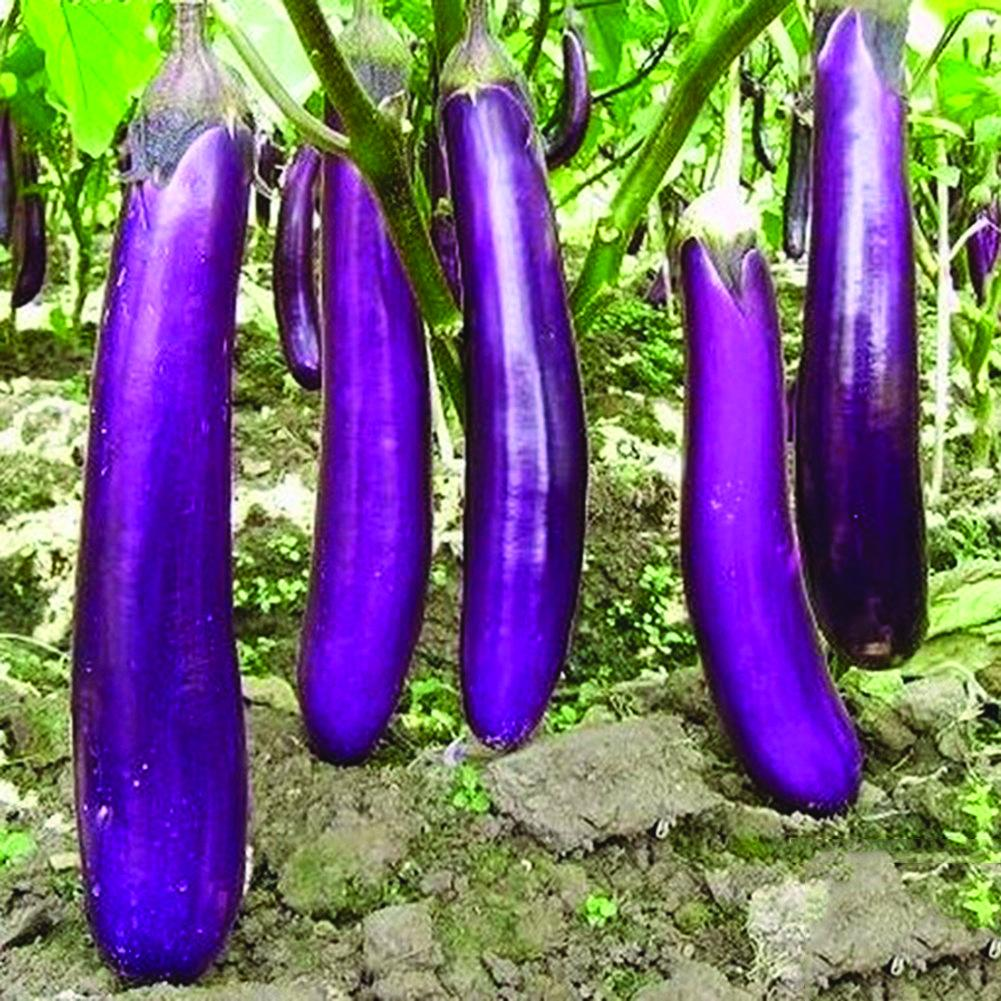eggplant: (69, 1, 256, 986), (275, 0, 432, 766), (433, 0, 589, 756), (791, 2, 929, 671)
